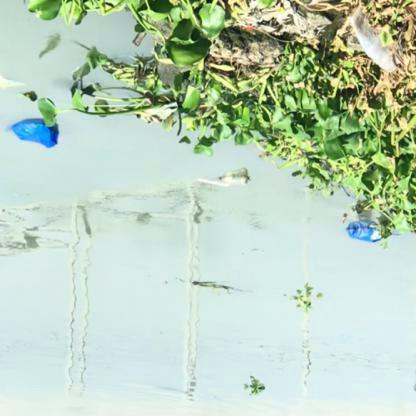Plastic: (346, 12, 404, 76), (343, 221, 392, 246)
Trash: (8, 114, 63, 152)
